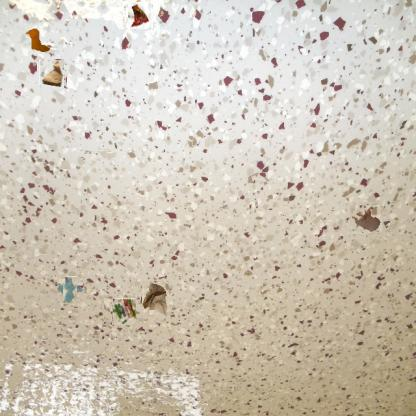dirty: (139, 283, 171, 314), (24, 26, 53, 54), (38, 60, 66, 87), (127, 3, 152, 29), (112, 298, 136, 325)
liquid: (351, 203, 381, 233), (60, 280, 81, 300)
